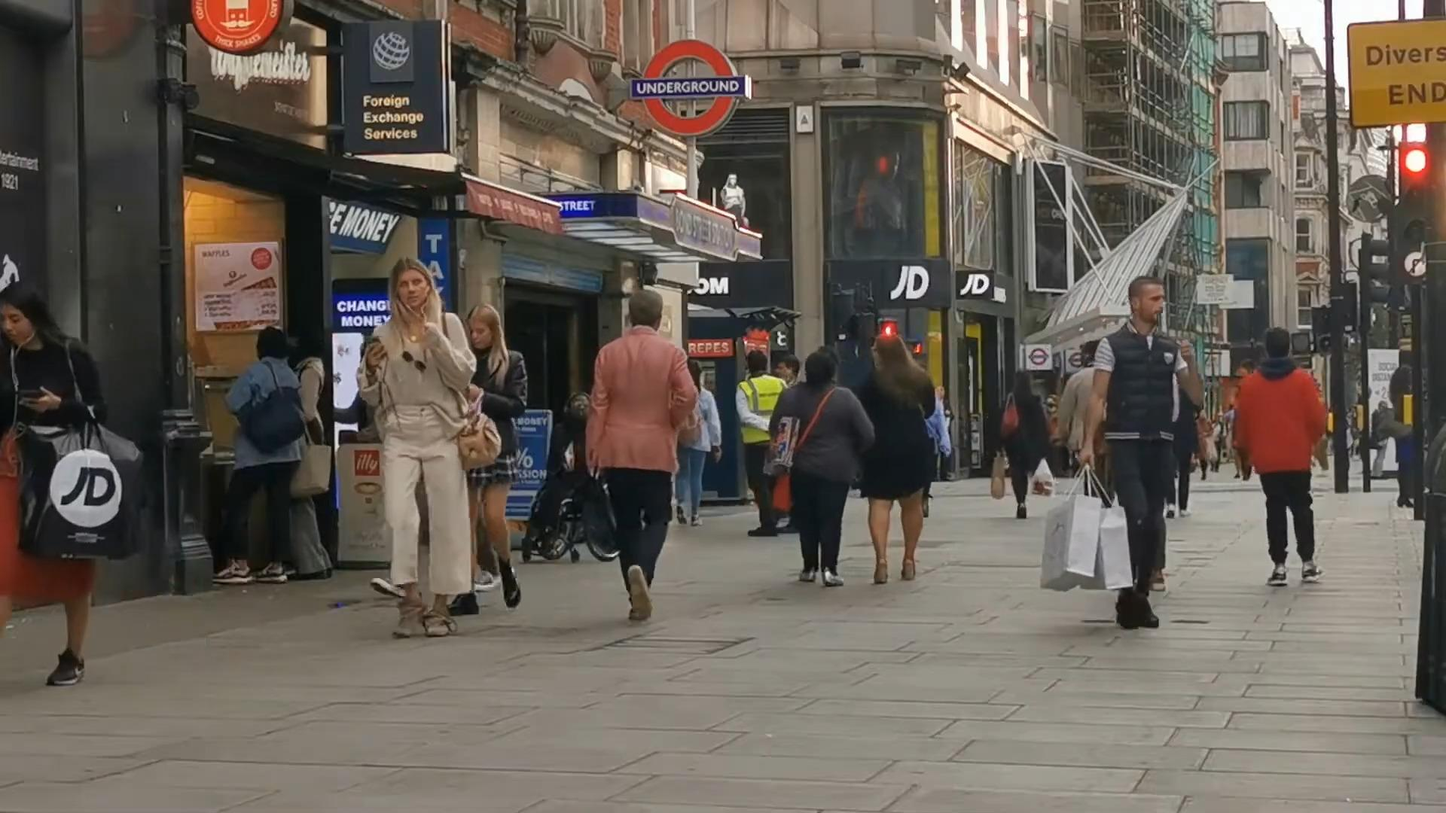no-helmet: (0, 280, 59, 346), (390, 256, 441, 312), (466, 302, 505, 349), (1128, 276, 1164, 326), (871, 335, 918, 370), (628, 289, 663, 332), (806, 350, 836, 386), (257, 326, 288, 360), (1265, 326, 1290, 359), (1013, 369, 1033, 397), (748, 349, 768, 374)
